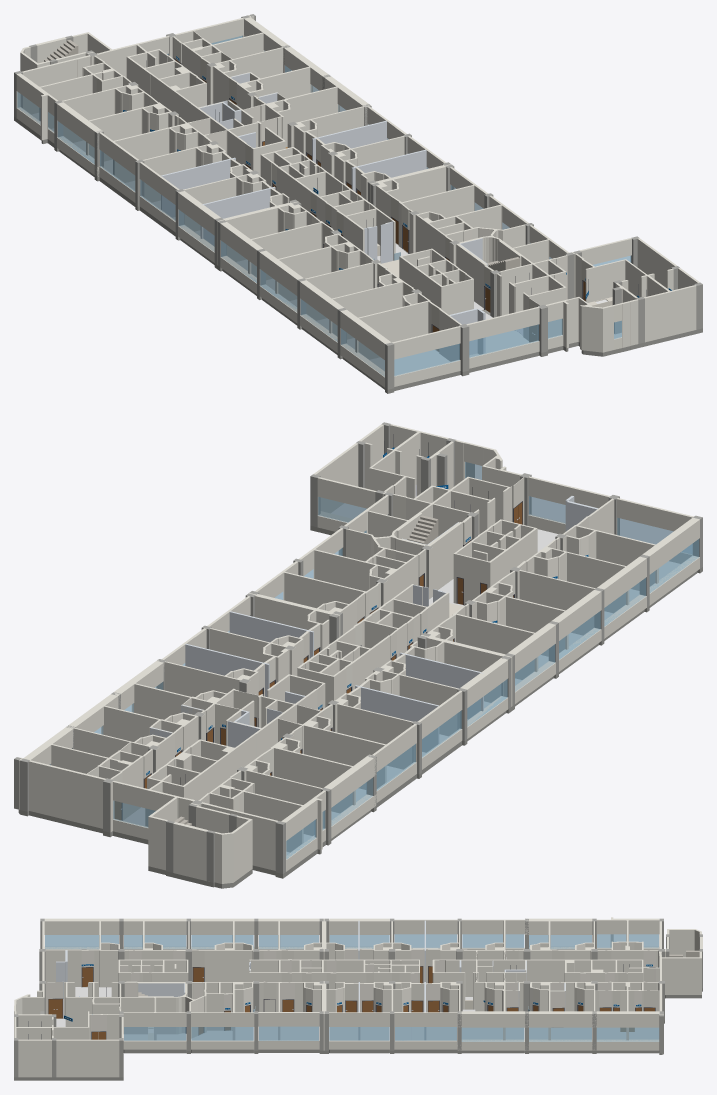
The model's file is solca_p3.glb.
The picture shows the model from 3 angles, top to bottom: view 1: azimuth 30°, elevation 25°; view 2: azimuth 150°, elevation 25°; view 3: azimuth 270°, elevation 25°; orthographic projection. The views are drawn at different scales.
Parts seen in each view (by area): view 1: muros|0.902,0.884,0.810|0.00, muros|0.303,0.608,0.846|0.60, muros|0.810,0.865,0.922|0.00, muros|0.462,0.462,0.436|0.00, pisos|0.384,0.384,0.360|0.00, pisos|0.865,0.865,0.865|0.00, muros|0.360,0.160,0.053|0.00, escaleras|0.608,0.578,0.518|0.00; view 2: muros|0.902,0.884,0.810|0.00, muros|0.462,0.462,0.436|0.00, muros|0.303,0.608,0.846|0.60, muros|0.810,0.865,0.922|0.00, pisos|0.384,0.384,0.360|0.00, pisos|0.865,0.865,0.865|0.00, muros|0.360,0.160,0.053|0.00, escaleras|0.608,0.578,0.518|0.00; view 3: muros|0.902,0.884,0.810|0.00, muros|0.303,0.608,0.846|0.60, muros|0.462,0.462,0.436|0.00, pisos|0.865,0.865,0.865|0.00, pisos|0.384,0.384,0.360|0.00, muros|0.360,0.160,0.053|0.00, muros|0.810,0.865,0.922|0.00, muros|0.102,0.109,0.130|0.00.
Part boxes in pixels (bbox=[...]): muros|0.902,0.884,0.810|0.00: bbox=[16, 15, 699, 387]; muros|0.303,0.608,0.846|0.60: bbox=[17, 35, 631, 376]; muros|0.810,0.865,0.922|0.00: bbox=[161, 72, 487, 354]; muros|0.462,0.462,0.436|0.00: bbox=[14, 14, 702, 389]; pisos|0.384,0.384,0.360|0.00: bbox=[14, 116, 702, 393]; pisos|0.865,0.865,0.865|0.00: bbox=[32, 113, 621, 374]; muros|0.360,0.160,0.053|0.00: bbox=[175, 59, 585, 351]; escaleras|0.608,0.578,0.518|0.00: bbox=[41, 40, 520, 271]; muros|0.902,0.884,0.810|0.00: bbox=[19, 424, 699, 883]; muros|0.462,0.462,0.436|0.00: bbox=[14, 422, 702, 882]; muros|0.303,0.608,0.846|0.60: bbox=[50, 462, 699, 859]; muros|0.810,0.865,0.922|0.00: bbox=[150, 496, 598, 752]; pisos|0.384,0.384,0.360|0.00: bbox=[18, 525, 702, 888]; pisos|0.865,0.865,0.865|0.00: bbox=[123, 503, 680, 854]; muros|0.360,0.160,0.053|0.00: bbox=[115, 502, 522, 819]; escaleras|0.608,0.578,0.518|0.00: bbox=[174, 515, 438, 826]; muros|0.902,0.884,0.810|0.00: bbox=[14, 917, 702, 1077]; muros|0.303,0.608,0.846|0.60: bbox=[45, 934, 659, 1041]; muros|0.462,0.462,0.436|0.00: bbox=[14, 918, 702, 1077]; pisos|0.865,0.865,0.865|0.00: bbox=[56, 957, 658, 1040]; pisos|0.384,0.384,0.360|0.00: bbox=[14, 986, 702, 1080]; muros|0.360,0.160,0.053|0.00: bbox=[48, 966, 654, 1039]; muros|0.810,0.865,0.922|0.00: bbox=[56, 920, 565, 1039]; muros|0.102,0.109,0.130|0.00: bbox=[48, 966, 655, 1039].
Size of the model in its own units: 27.74 by 4.2 by 65.42.
